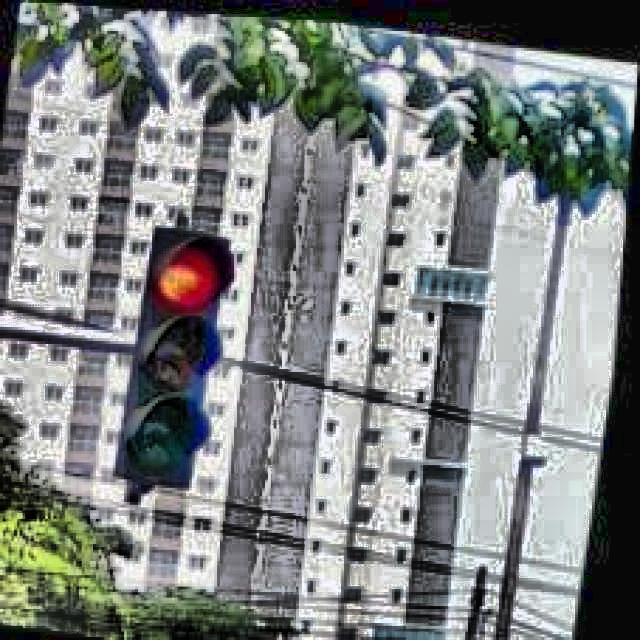red: (135, 224, 230, 497)
